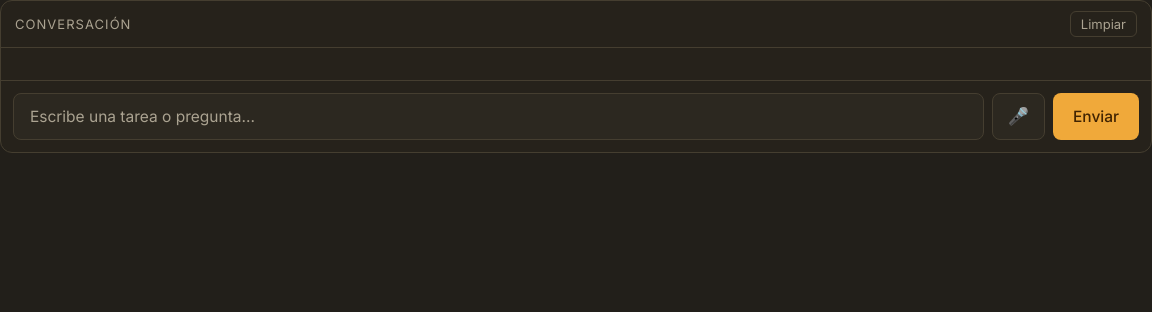
it: ChatWindow › al enviar, rellena la respuesta progresivamente segun llegan los chunks
This screenshot has width=1152, height=312.
Type "hola agente" into the field with placeholder "Escribe una tarea o pregunta...". click: (498, 116)
box: [13, 93, 984, 140]
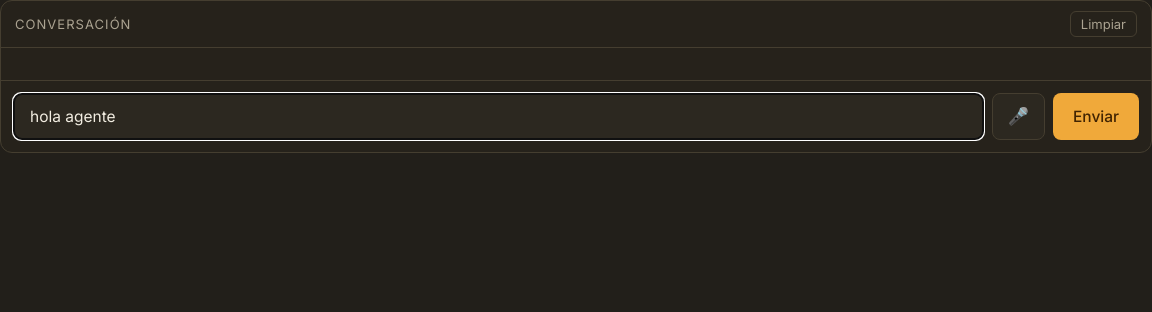
Click the button "Enviar". click: (1096, 116)
box: [1053, 93, 1139, 140]
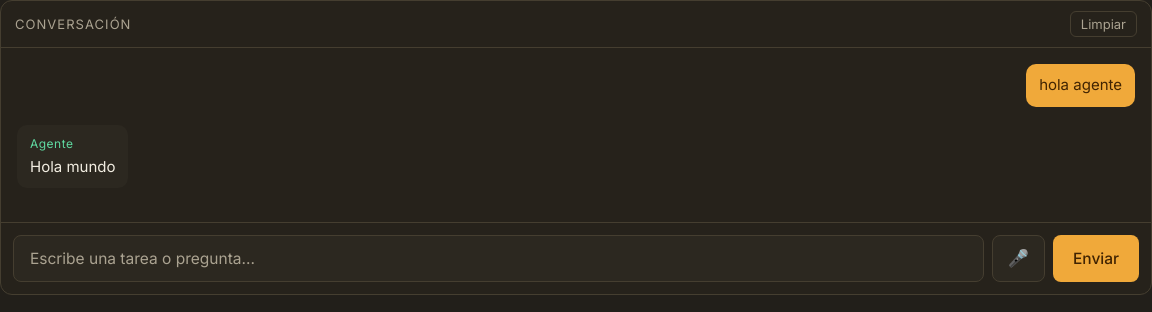
Expected: the text "hola agente" is shown, [1026, 64, 1135, 106]
Expected: the text "Hola mundo" is shown, [30, 156, 116, 176]
